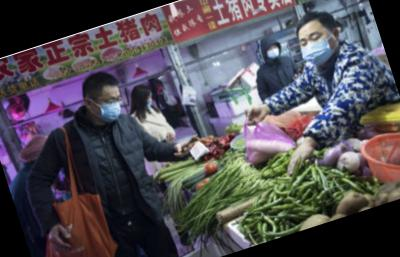mask_weared_incorrect: (144, 93, 156, 109)
with_mask: (295, 23, 341, 69), (93, 90, 129, 125), (264, 42, 281, 60)
